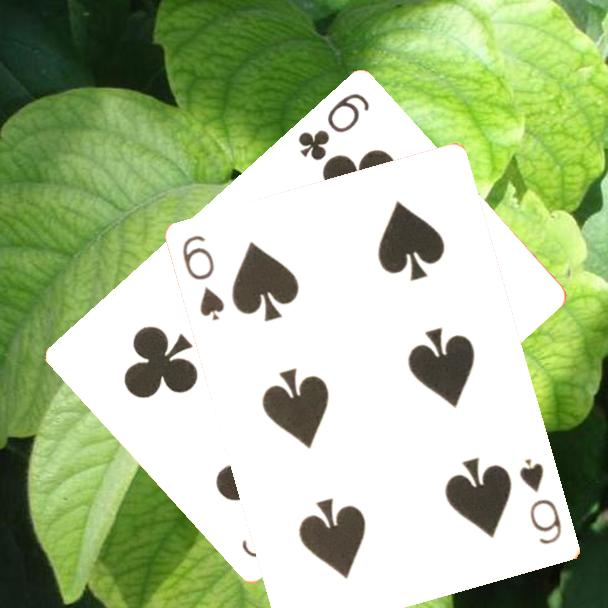c06: (294, 90, 373, 165)
s06: (516, 455, 565, 548), (179, 232, 228, 324)
